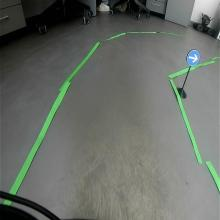right: (186, 48, 200, 66)
